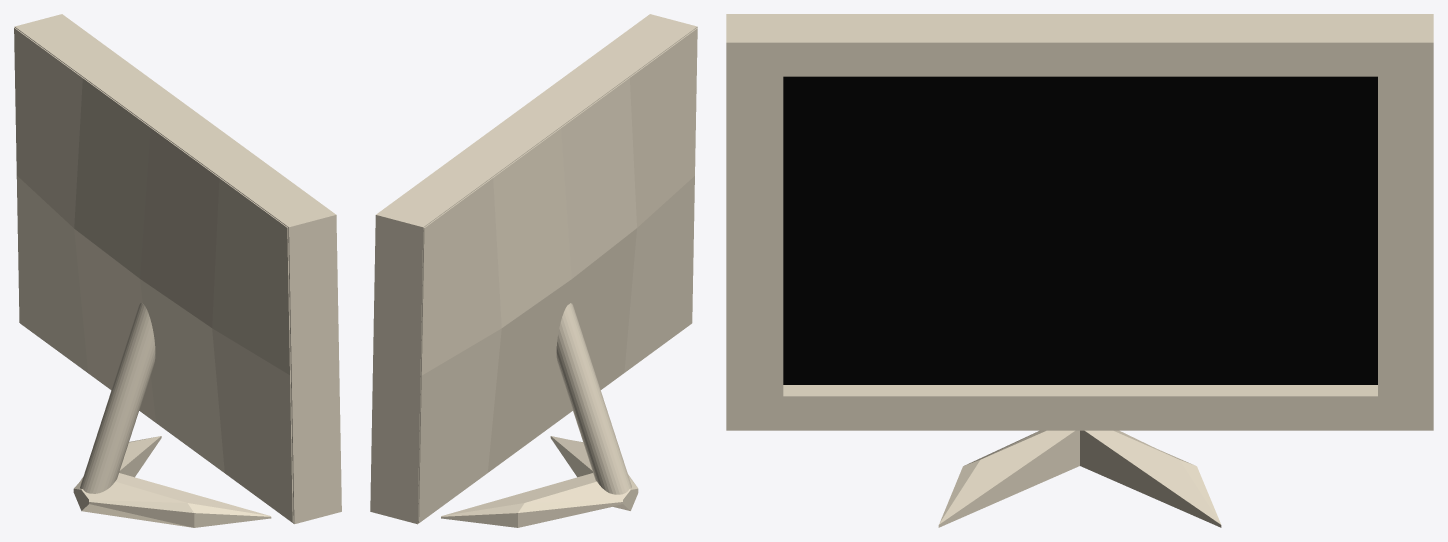
The model's file is monitormodel.fbx.
The picture shows the model from 3 angles, left to right: view 1: azimuth 30°, elevation 25°; view 2: azimuth 150°, elevation 25°; view 3: azimuth 270°, elevation 25°; orthographic projection. The views are drawn at different scales.
Visible parts, largest first — view 1: Cube, Cube.001, Cylinder; view 2: Cube, Cube.001, Cylinder; view 3: Plane, Cube, Cube.001.
Part boxes in pixels (left/top/right/bottom): Cube: left=14, top=14, right=341, bottom=524; Cube.001: left=73, top=436, right=271, bottom=527; Cylinder: left=80, top=303, right=155, bottom=493; Cube: left=370, top=14, right=697, bottom=524; Cube.001: left=441, top=436, right=638, bottom=527; Cylinder: left=556, top=303, right=631, bottom=494; Plane: left=783, top=76, right=1377, bottom=384; Cube: left=726, top=14, right=1433, bottom=430; Cube.001: left=938, top=430, right=1221, bottom=527.
Bounding box in the file's own units: 142 × 370 × 500.
